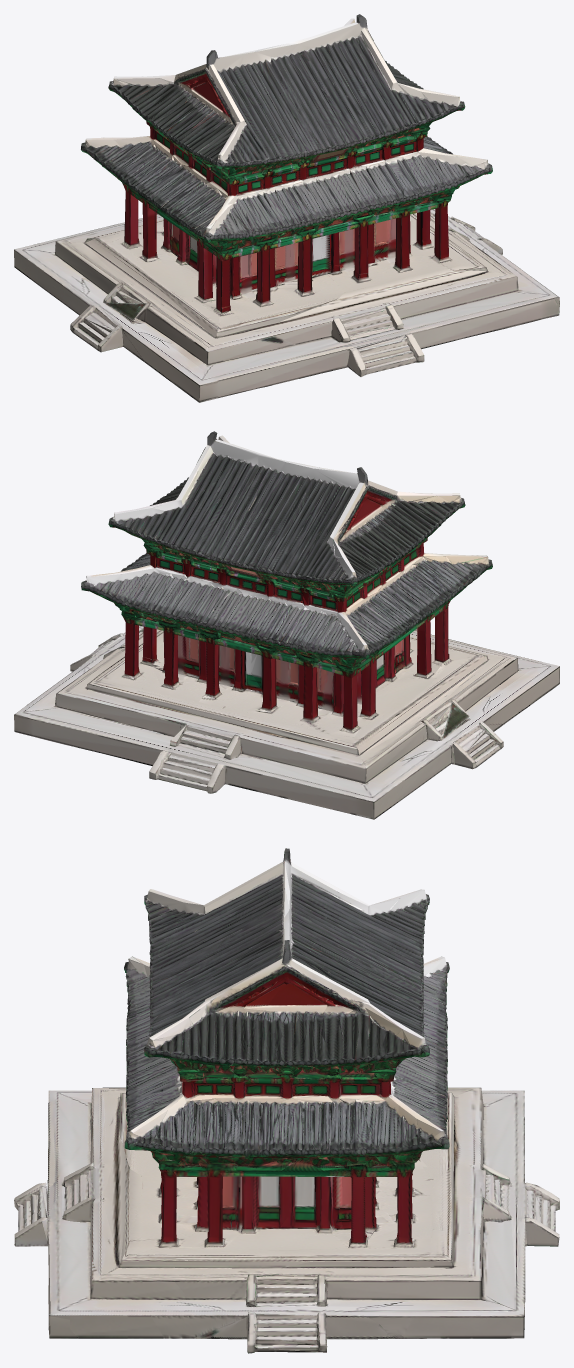
Rendered from palace.glb.
3 renders of one model, top to bottom at view 1: azimuth 30°, elevation 25°; view 2: azimuth 150°, elevation 25°; view 3: azimuth 270°, elevation 25°, orthographic. The views are drawn at different scales.
Size of the model in its own units: 1.9 by 1.17 by 1.74.
Materials: 1 (1 with a texture image).
